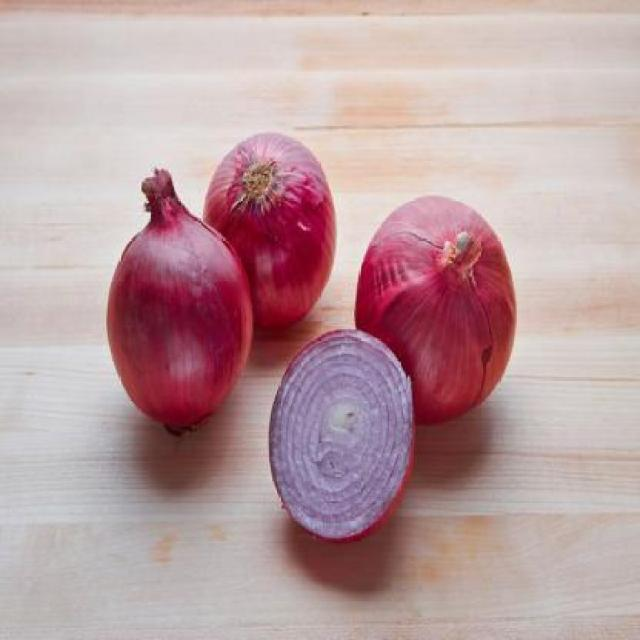Onion: (106, 169, 252, 433), (355, 197, 517, 424), (205, 132, 337, 330)
